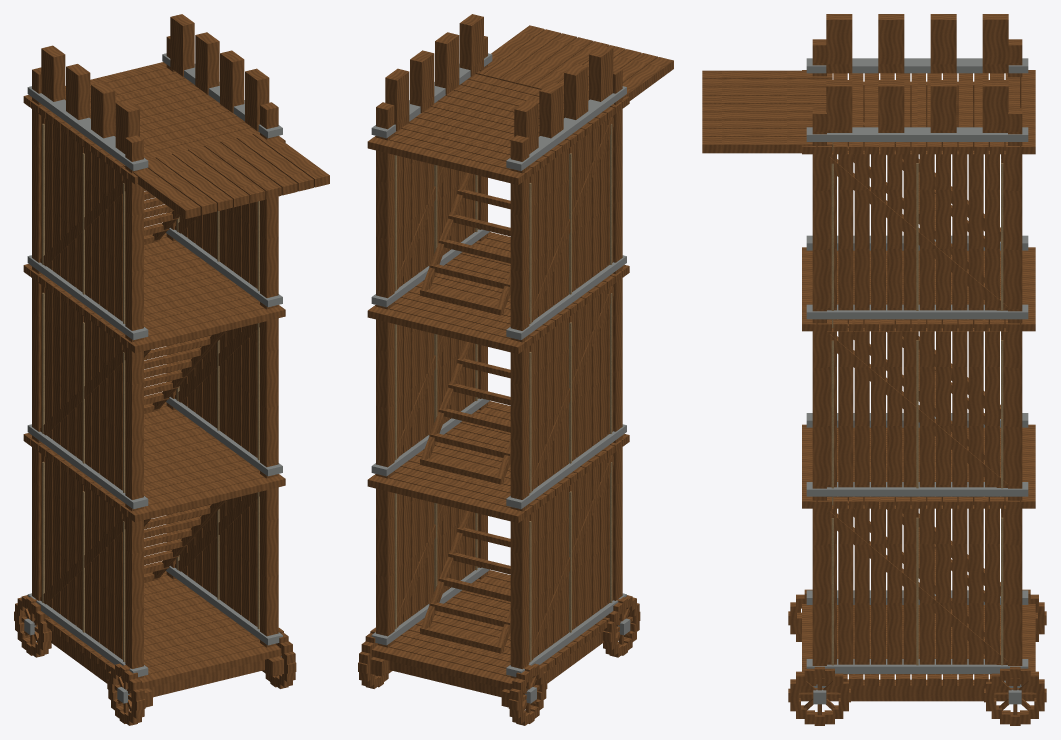
3 renders of one model, left to right at view 1: azimuth 30°, elevation 25°; view 2: azimuth 150°, elevation 25°; view 3: azimuth 270°, elevation 25°, orthographic. The views are drawn at different scales.
Bounding box in the file's own units: 302 × 1075 × 528.
Materials: 3 (2 with a texture image).
